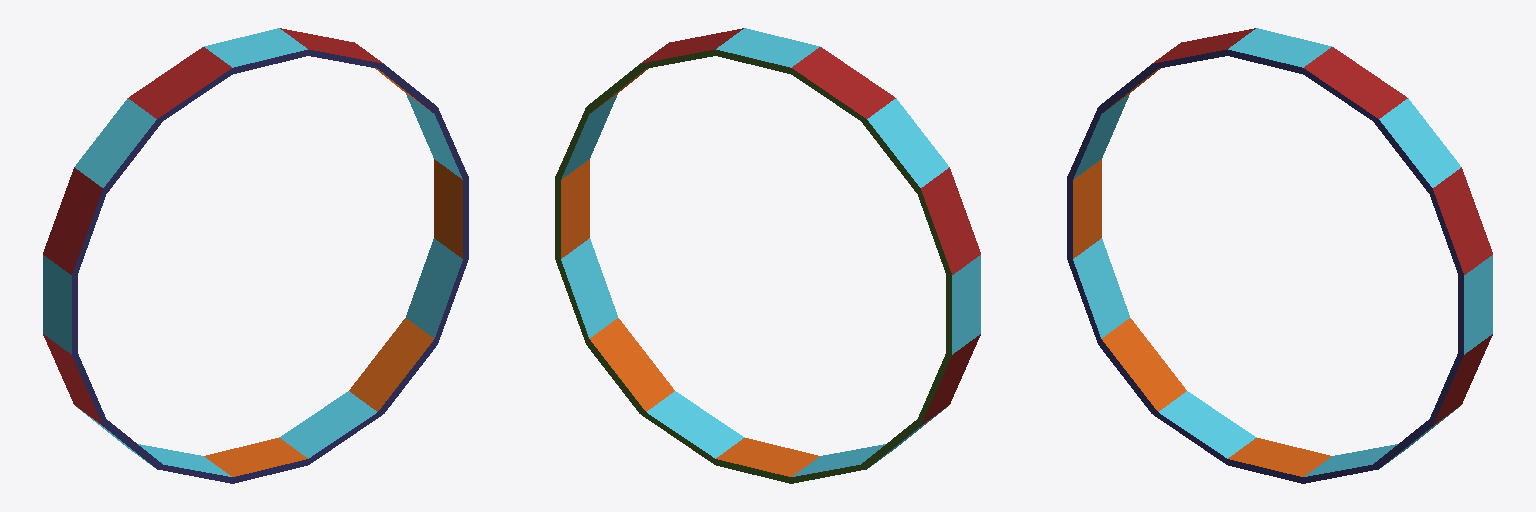
3 views of the same model, side by side, from view 1: azimuth 30°, elevation 25°; view 2: azimuth 150°, elevation 25°; view 3: azimuth 330°, elevation 25° (orthographic).
Visible parts, largest first — view 1: Default; view 2: Default; view 3: Default.
Part boxes in pixels (left/top/right/bottom): Default: left=43, top=28, right=468, bottom=483; Default: left=555, top=28, right=980, bottom=483; Default: left=1067, top=28, right=1492, bottom=483.
Bounding box in the file's own units: 7.88 × 7.88 × 1.
Materials: 1 (1 with a texture image).